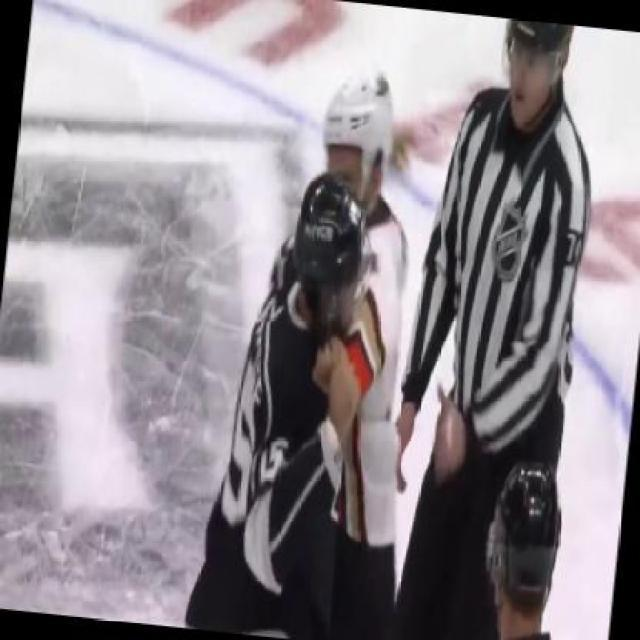fight: (196, 52, 436, 638)
non-fight: (383, 12, 608, 580)
